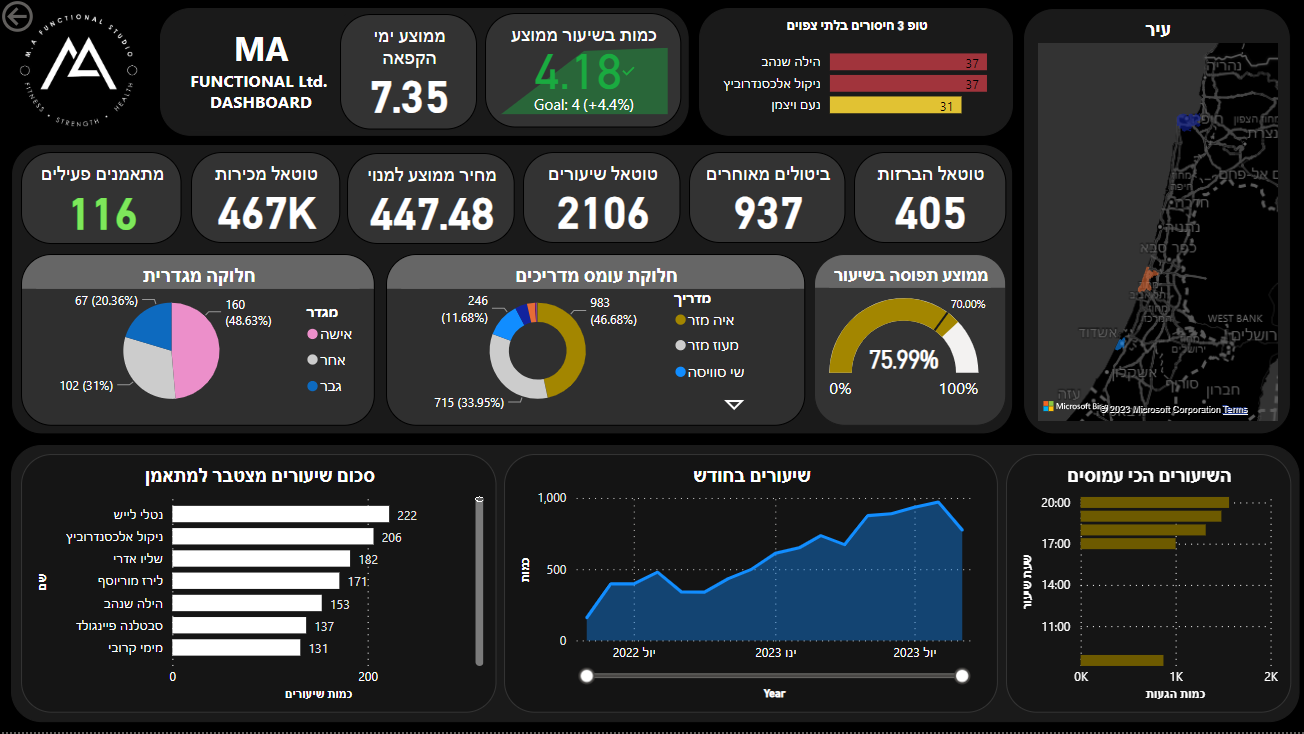

Layout of this report page (visuals, bound fields, positions):
{"tool":"powerbi","page":{"name":"נתוני לקוח","canvas":[1280,720],"ordinal":0},"visuals":[{"type":"textbox","box":[13.7,144.7,979.8,283.6],"z":0},{"type":"image","box":[0,0,159.4,144.7],"z":1000},{"type":"pieChart","title":"חלוקה מגדרית","fields":{"Category":["נתוני לקוחות.מגדר"],"Y":["CountNonNull(נתוני לקוחות.מגדר)"]},"box":[23.5,252.3,346.2,168.2],"z":2000},{"type":"donutChart","title":"חלוקת עומס מדריכים","fields":{"Y":["CountNonNull(שיעורים.מדריך)"],"Category":["שיעורים.מדריך"]},"box":[380.4,252.3,409.7,168.2],"z":3000},{"type":"textbox","box":[13.3,438.6,1259.6,271.3],"z":4000},{"type":"barChart","title":"סכום שיעורים מצטבר למתאמן","fields":{"Category":["נוכחות.שם "],"Y":["CountNonNull(נוכחות.#)"]},"box":[23.5,447.9,465.5,253.3],"z":5000},{"type":"areaChart","title":"שיעורים בחודש","fields":{"Category":["נוכחות.תאריך שיעור.Variation.Date Hierarchy.Year","נוכחות.תאריך שיעור.Variation.Date Hierarchy.Month"],"Y":["CountNonNull(נוכחות.#)"]},"box":[495.8,447.9,483.1,253.3],"z":6000},{"type":"barChart","title":"השיעורים הכי עמוסים","fields":{"Category":["נוכחות.שעת שיעור"],"Y":["CountNonNull(נוכחות.#)"]},"box":[986.6,447.9,278.7,253.3],"z":7000},{"type":"filledMap","title":"עיר","fields":{"Series":["נתוני לקוחות.עיר"],"Category":["נתוני לקוחות.עיר"]},"box":[1003.1,11.7,270.1,416.9],"z":8000},{"type":"card","title":"טוטאל מכירות","fields":{"Values":["מכירות.Measure"]},"box":[189.7,152.5,145.7,89],"z":9000},{"type":"card","title":"טוטאל שיעורים","fields":{"Values":["CountNonNull(שיעורים.#)"]},"box":[514.3,152.5,154.5,89],"z":10000},{"type":"card","title":"מתאמנים פעילים","fields":{"Values":["CountNonNull(נתוני לקוחות.סטטוס )"]},"box":[23.5,152.5,157.4,90],"z":11000},{"type":"textbox","box":[159.4,11.7,517.3,125.2],"z":12000},{"type":"gauge","title":"ממוצע תפוסה בשיעור","fields":{"MinValue":["נתוני לקוחות.MinP"],"MaxValue":["נתוני לקוחות.MaxP"],"TargetValue":["נתוני לקוחות.TargetP"],"Y":["Avg(שיעורים.אחוזי הגעות)"]},"box":[798.9,252.3,187.7,168.2],"z":13000},{"type":"card","title":"טוטאל הברזות","fields":{"Values":["CountNonNull(נוכחות.סטטוס נוכחות)"]},"box":[838,152.5,148.6,89],"z":14000},{"type":"card","title":"מחיר ממוצע למנוי","fields":{"Values":["Avg(מכירות.מחיר)"]},"box":[342.2,153.5,164.3,89],"z":15000},{"type":"card","title":"ביטולים מאוחרים","fields":{"Values":["CountNonNull(נוכחות.סטטוס נוכחות)"]},"box":[676.7,152.5,152.5,89],"z":16000},{"type":"actionButton","box":[0,0,100,40],"z":17000},{"type":"barChart","title":"טופ 3 חיסורים בלתי צפוים","fields":{"Category":["נוכחות.שם "],"Y":["CountNonNull(נוכחות.#)"]},"box":[686.4,11.7,307,125.2],"z":18000},{"type":"kpi","title":"כמות בשיעור ממוצע","fields":{"Indicator":["Avg(שיעורים.הגעות)"],"Goal":["שיעורים.TargetCappacity"],"TrendLine":["נוכחות.תאריך שיעור.Variation.Date Hierarchy.Year"]},"box":[477.2,16.6,191.7,112.5],"z":19000},{"type":"textbox","box":[159.4,13.7,195.6,119.3],"z":20000},{"type":"card","title":"ממוצע ימי הקפאה","fields":{"Values":["Avg(הקפאות.ימי הקפאה)"]},"box":[335.4,17.6,134,113.4],"z":21000}]}

Visuals, with their boxes in screenshot pixels (x1, y1, x2, y2), scaled from the page's 1280x720 canvas onto the 1304x734 screenshot:
textbox: l=14, t=148, r=1012, b=437
image: l=0, t=0, r=162, b=148
"חלוקה מגדרית" pieChart: l=24, t=257, r=377, b=429
"חלוקת עומס מדריכים" donutChart: l=388, t=257, r=805, b=429
textbox: l=14, t=447, r=1297, b=724
"סכום שיעורים מצטבר למתאמן" barChart: l=24, t=457, r=498, b=715
"שיעורים בחודש" areaChart: l=505, t=457, r=997, b=715
"השיעורים הכי עמוסים" barChart: l=1005, t=457, r=1289, b=715
"עיר" filledMap: l=1022, t=12, r=1297, b=437
"טוטאל מכירות" card: l=193, t=155, r=342, b=246
"טוטאל שיעורים" card: l=524, t=155, r=681, b=246
"מתאמנים פעילים" card: l=24, t=155, r=184, b=247
textbox: l=162, t=12, r=689, b=140
"ממוצע תפוסה בשיעור" gauge: l=814, t=257, r=1005, b=429
"טוטאל הברזות" card: l=854, t=155, r=1005, b=246
"מחיר ממוצע למנוי" card: l=349, t=156, r=516, b=247
"ביטולים מאוחרים" card: l=689, t=155, r=845, b=246
actionButton: l=0, t=0, r=102, b=41
"טופ 3 חיסורים בלתי צפוים" barChart: l=699, t=12, r=1012, b=140
"כמות בשיעור ממוצע" kpi: l=486, t=17, r=681, b=132
textbox: l=162, t=14, r=362, b=136
"ממוצע ימי הקפאה" card: l=342, t=18, r=478, b=134
